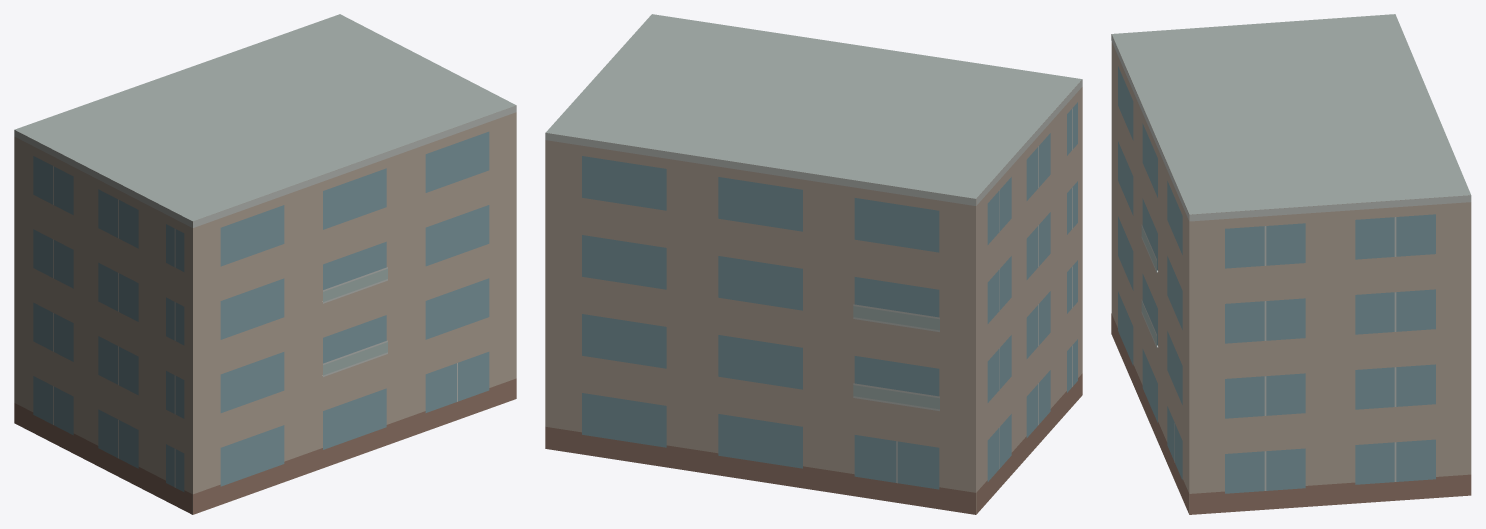
File: survey-upis-32912452.glb
The picture shows the model from 3 angles, left to right: view 1: azimuth 30°, elevation 25°; view 2: azimuth 150°, elevation 25°; view 3: azimuth 270°, elevation 25°; orthographic projection. The views are drawn at different scales.
Parts seen in each view (by area): view 1: survey-upis-32912452.tmp; view 2: survey-upis-32912452.tmp; view 3: survey-upis-32912452.tmp.
Boxes of the visible parts, left/top/right/bottom form: survey-upis-32912452.tmp: left=14, top=14, right=516, bottom=514; survey-upis-32912452.tmp: left=545, top=14, right=1082, bottom=514; survey-upis-32912452.tmp: left=1111, top=14, right=1471, bottom=514.
Bounding box in the file's own units: 15.2 × 10.6 × 11.52.
